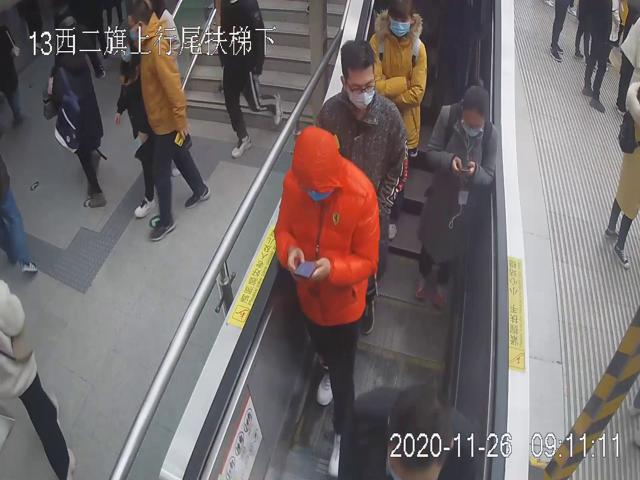person: (275, 125, 380, 480), (314, 36, 410, 334), (126, 0, 210, 243), (416, 79, 499, 311), (366, 0, 428, 240)
